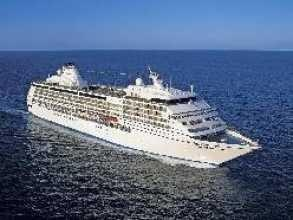youlun: (25, 58, 263, 168)
